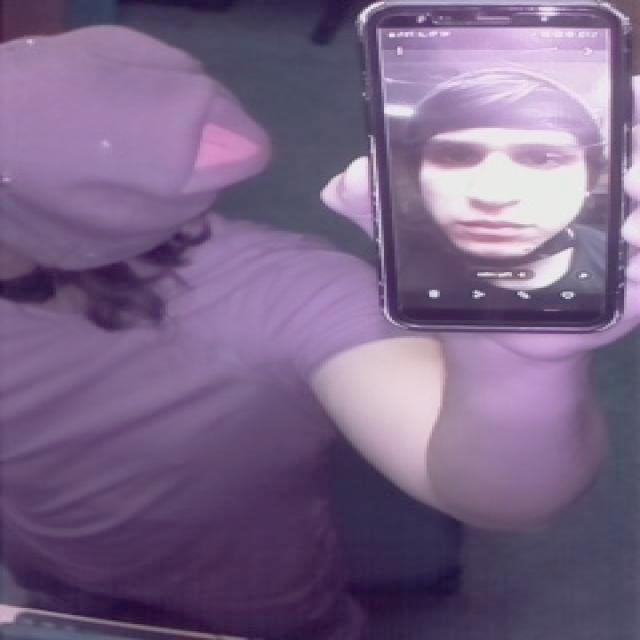phone: (350, 0, 640, 340)
